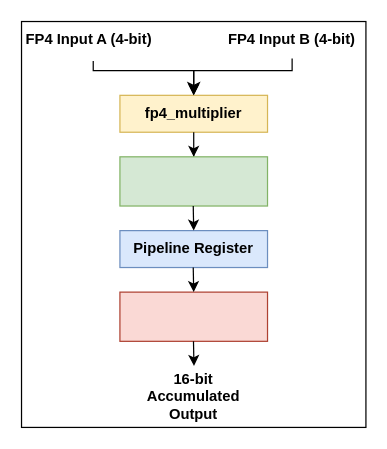
This 387x449 diagram has some shape labels left out. Here are the shapes that lost their labels. From the top down, the centre of each, then its label:
point (193, 181): Bit-Sparsity Zero-Skip Logic
point (193, 316): Accumulator (Q4.4 Format)
